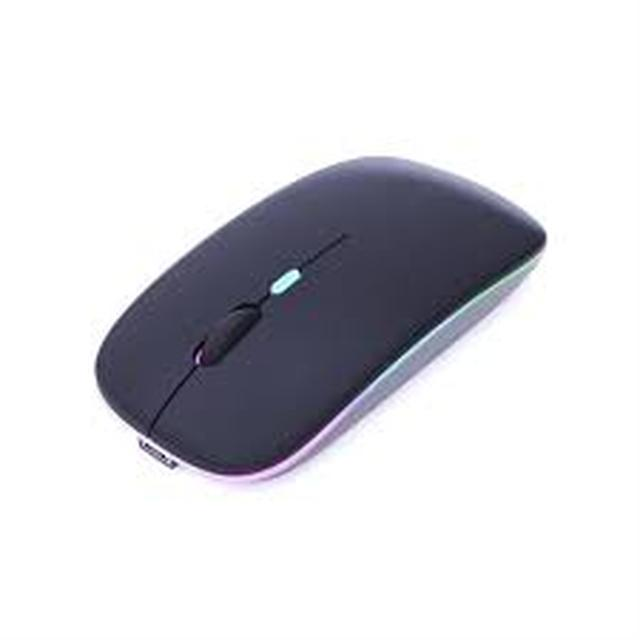mouse: (92, 144, 532, 488)
